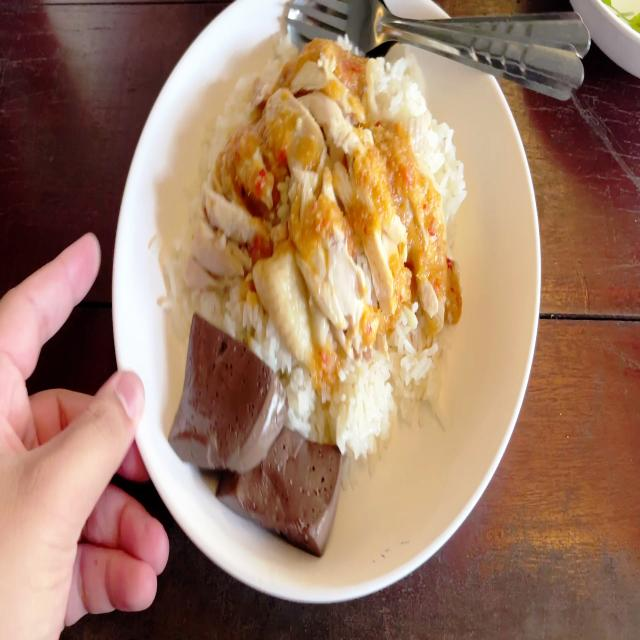boiled_chicken: (215, 63, 411, 341)
boiled_chicken_blood_jelly: (165, 312, 277, 464), (214, 420, 340, 551)
chicken_rice: (159, 22, 467, 555)
